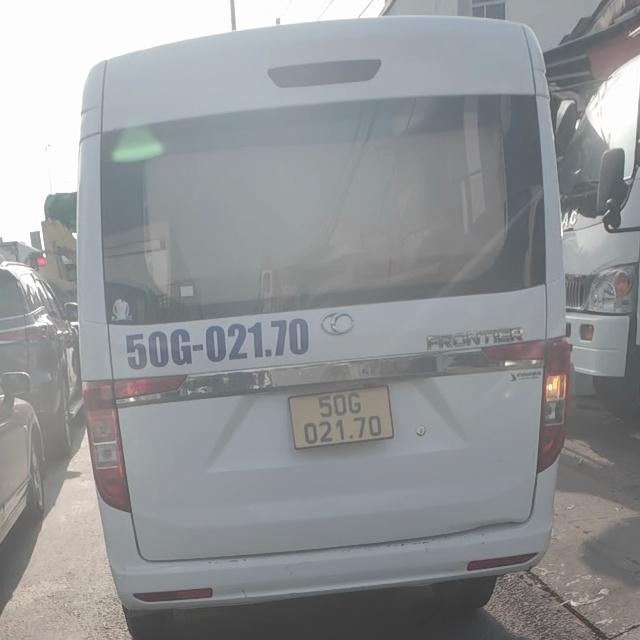license-plate: (288, 386, 395, 450)
